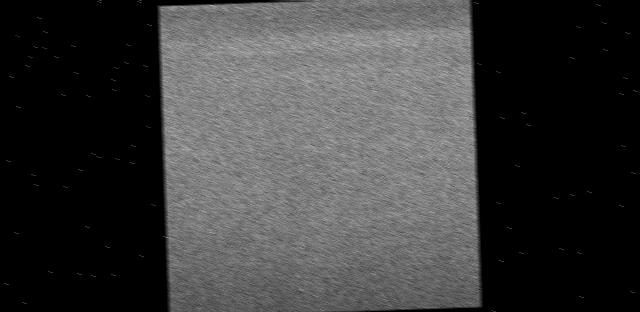silk_spot: (180, 116, 480, 266)
